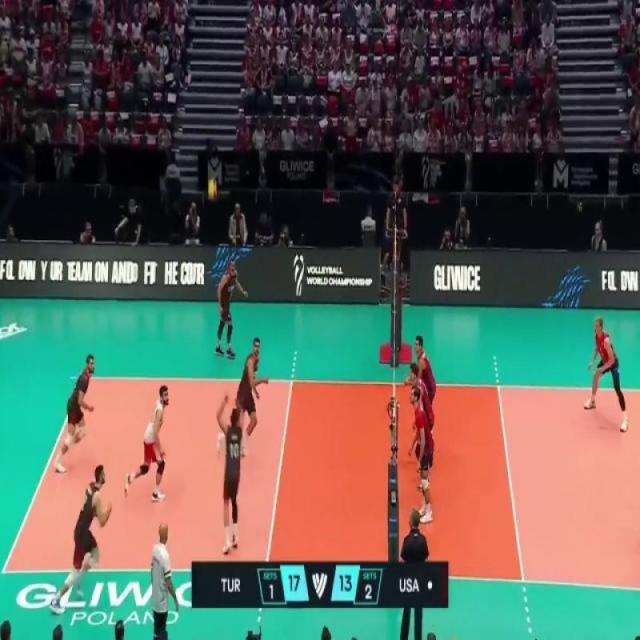volleyball: (205, 173, 219, 204), (575, 199, 585, 215)
